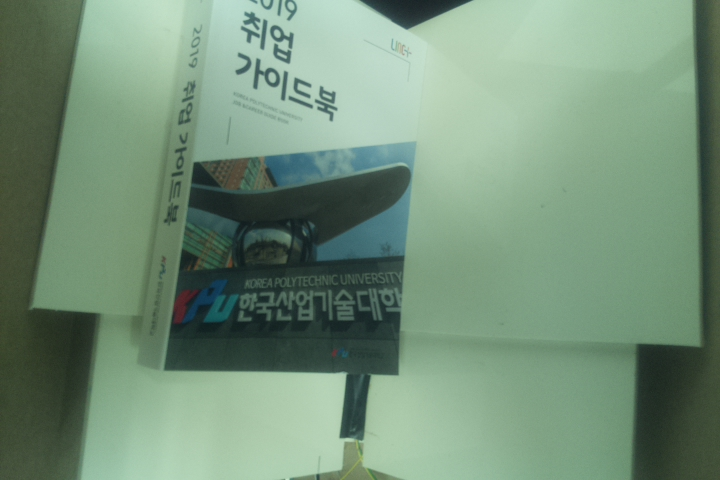book: (131, 1, 429, 375)
